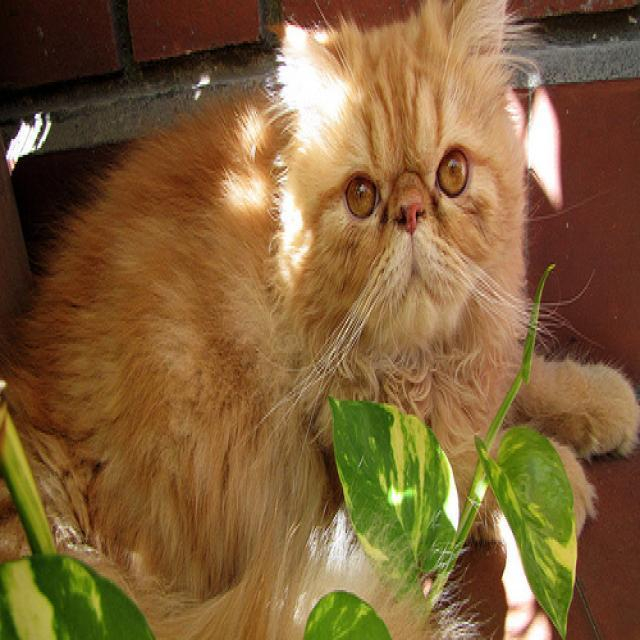Persian: (269, 1, 527, 366)
